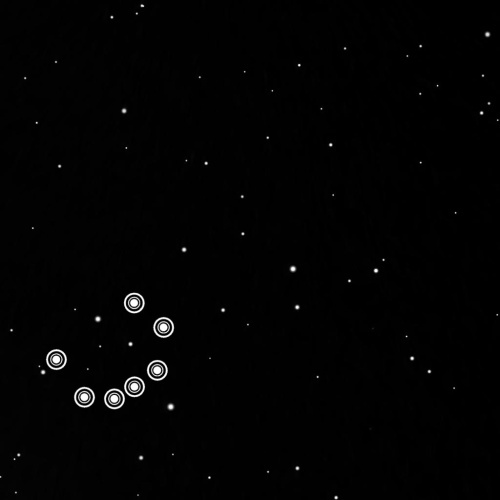corona_borealis: (42, 281, 178, 417)
